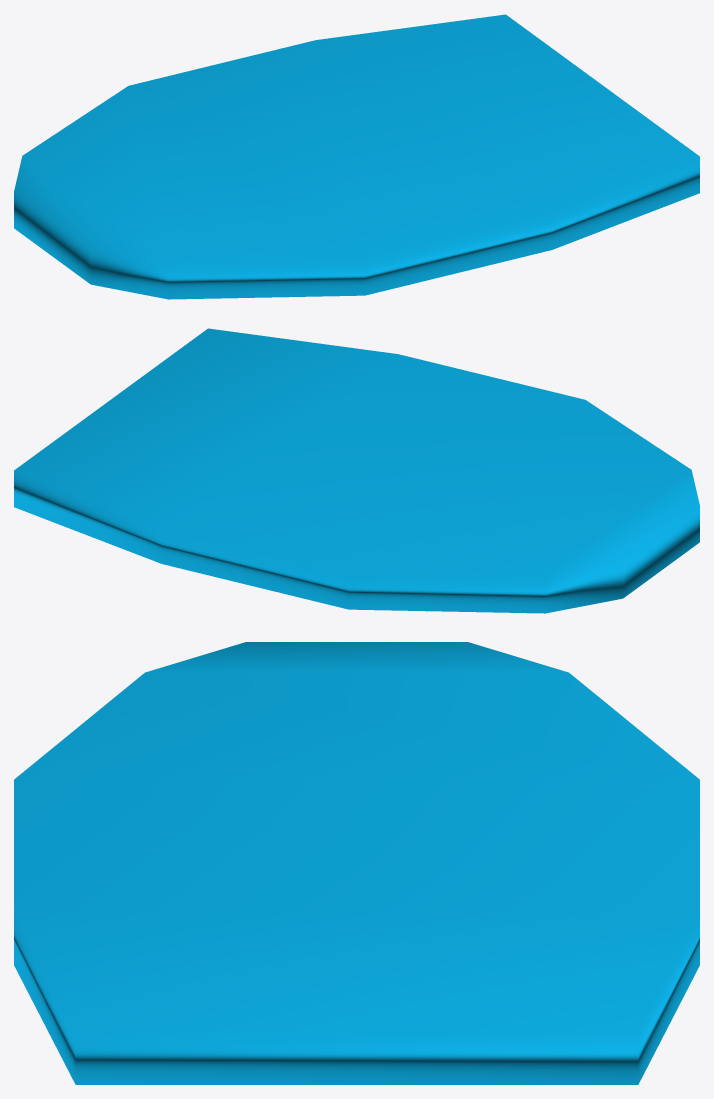
The model's file is Wc_02_Seat_Top_Lod2.fbx.
3 renders of one model, top to bottom at view 1: azimuth 30°, elevation 25°; view 2: azimuth 150°, elevation 25°; view 3: azimuth 270°, elevation 25°, orthographic. The views are drawn at different scales.
Parts seen in each view (by area): view 1: Wc_02_Seat_Top_Lod2; view 2: Wc_02_Seat_Top_Lod2; view 3: Wc_02_Seat_Top_Lod2.
Boxes of the visible parts, bbox=[...] form: Wc_02_Seat_Top_Lod2: bbox=[14, 14, 699, 299]; Wc_02_Seat_Top_Lod2: bbox=[14, 328, 699, 613]; Wc_02_Seat_Top_Lod2: bbox=[14, 642, 699, 1084].
Size of the model in its own units: 43.4 by 2.76 by 32.3.
